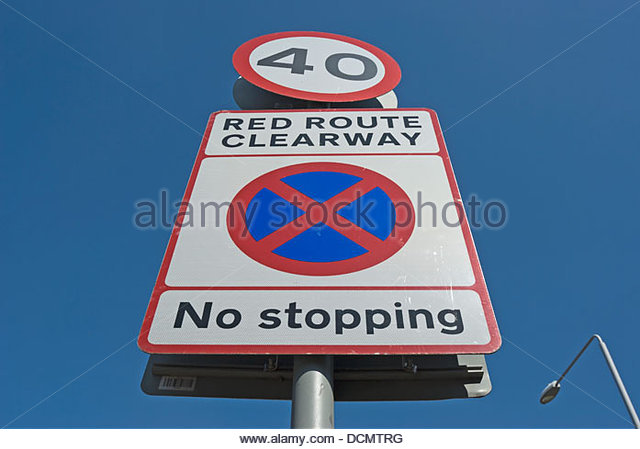Speed_limit_40km: (231, 29, 404, 110)
